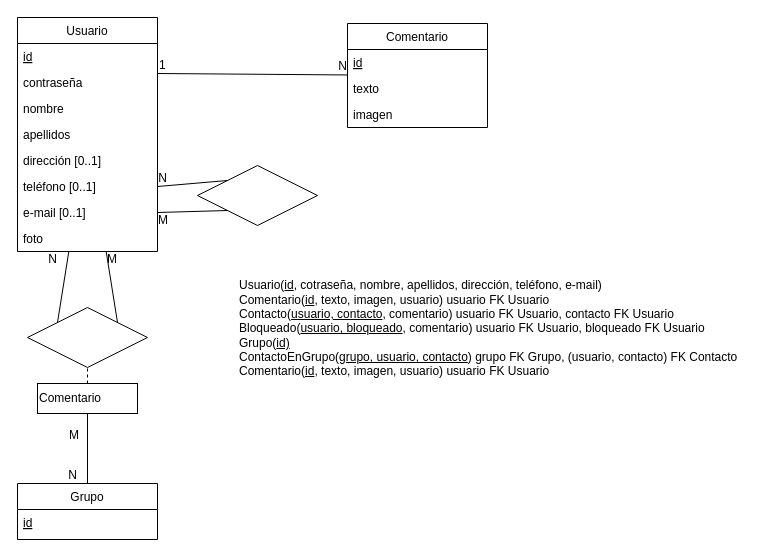
This 775x560 diagram has some shape labels left out. Each missing label, with the centre of its shape:
"Bloqueado" goes at (x=257, y=195).
"Contacto" goes at (x=87, y=337).
